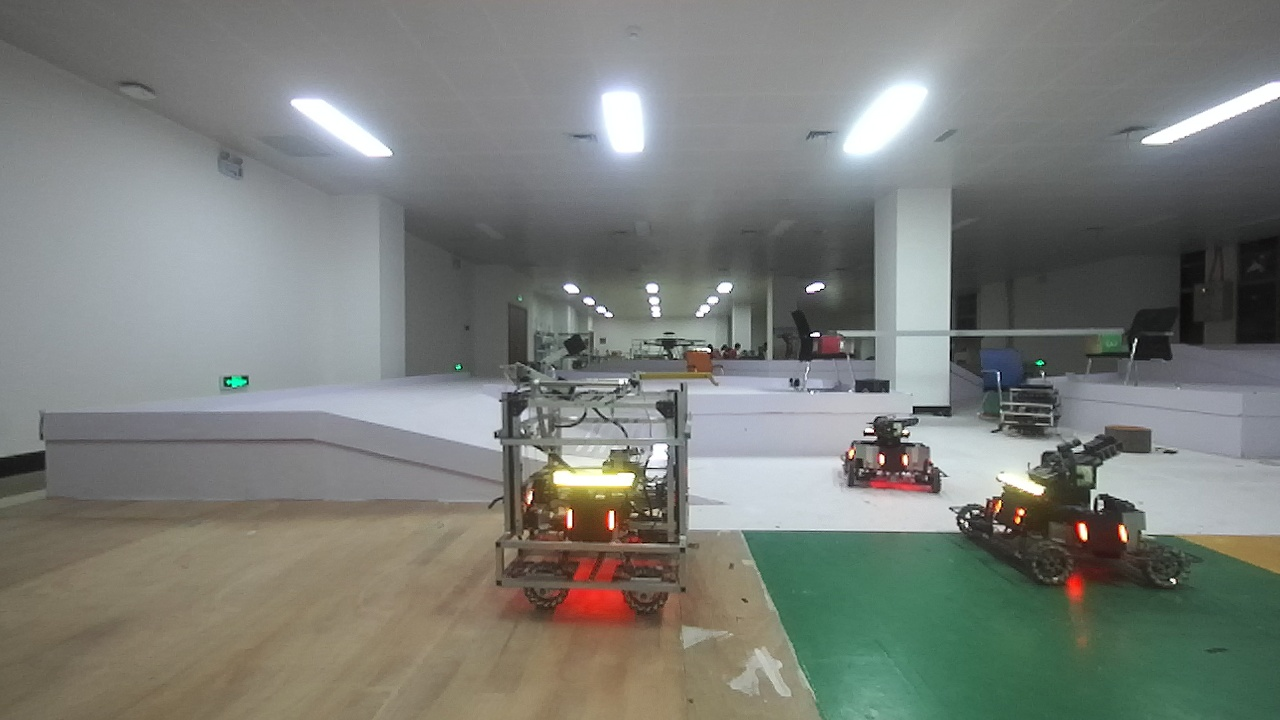car: (490, 374, 692, 629), (958, 438, 1200, 593), (843, 411, 943, 495)
